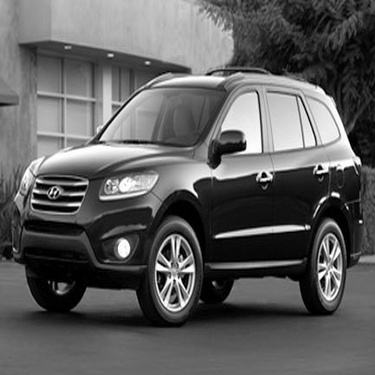car: (9, 58, 365, 322)
